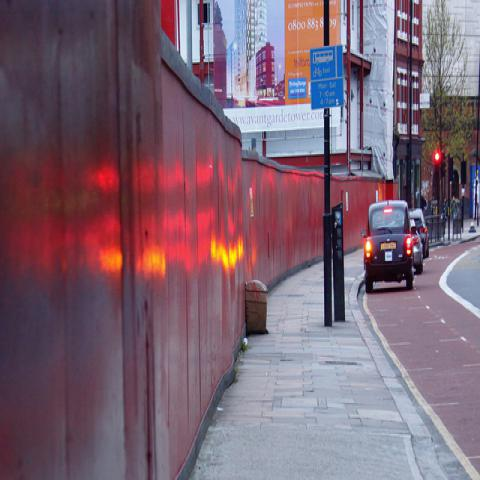car: (361, 199, 414, 292), (410, 208, 428, 257), (410, 220, 424, 274)
